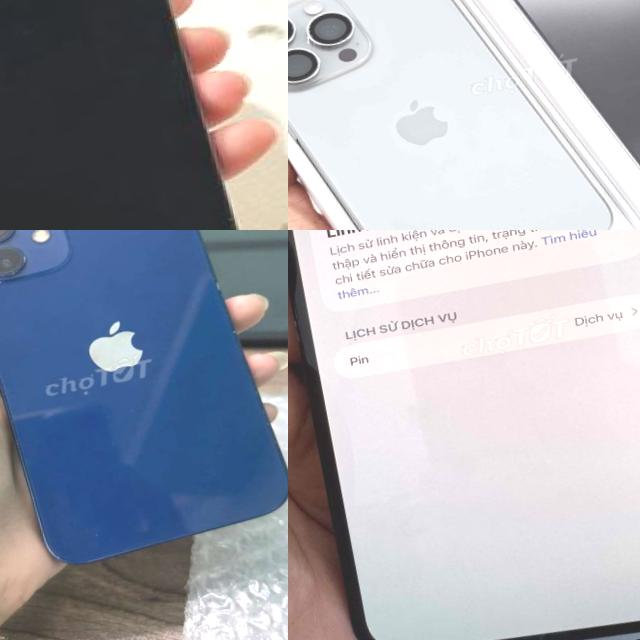scratch: (298, 27, 322, 55)
